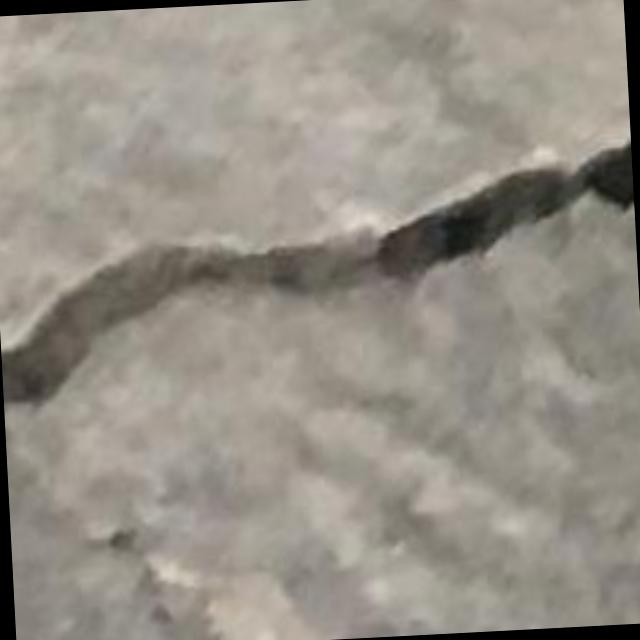crack: (1, 144, 633, 408)
